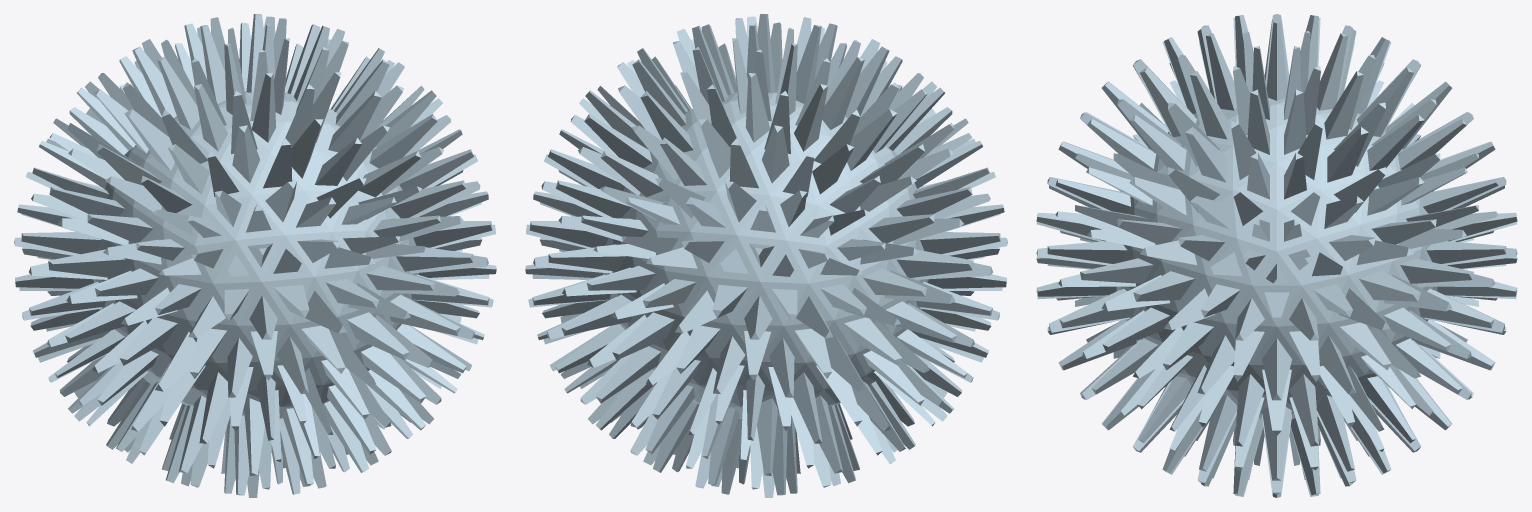
The model's file is spikes.glb.
The picture shows the model from 3 angles, left to right: view 1: azimuth 30°, elevation 25°; view 2: azimuth 150°, elevation 25°; view 3: azimuth 270°, elevation 25°; orthographic projection.
Parts seen in each view (by area): view 1: Icosphere; view 2: Icosphere; view 3: Icosphere.
Boxes of the visible parts, x1,y1,x2,y2 form: Icosphere: (14,14,496,497); Icosphere: (525,14,1007,497); Icosphere: (1036,14,1517,497).
Size of the model in its own units: 6.79 by 6.84 by 6.77.
